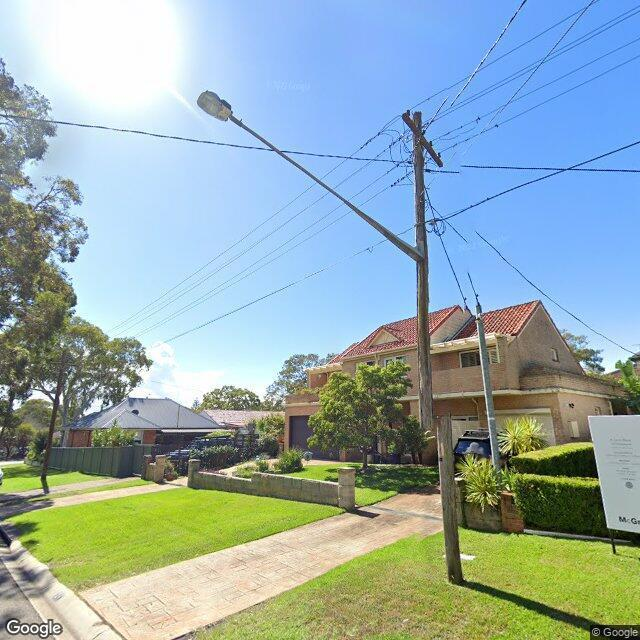crossarm: (401, 113, 445, 167)
steel-pole: (476, 315, 499, 467)
streetlight: (198, 91, 424, 258)
timber-pole: (415, 110, 463, 582), (40, 349, 68, 478)
